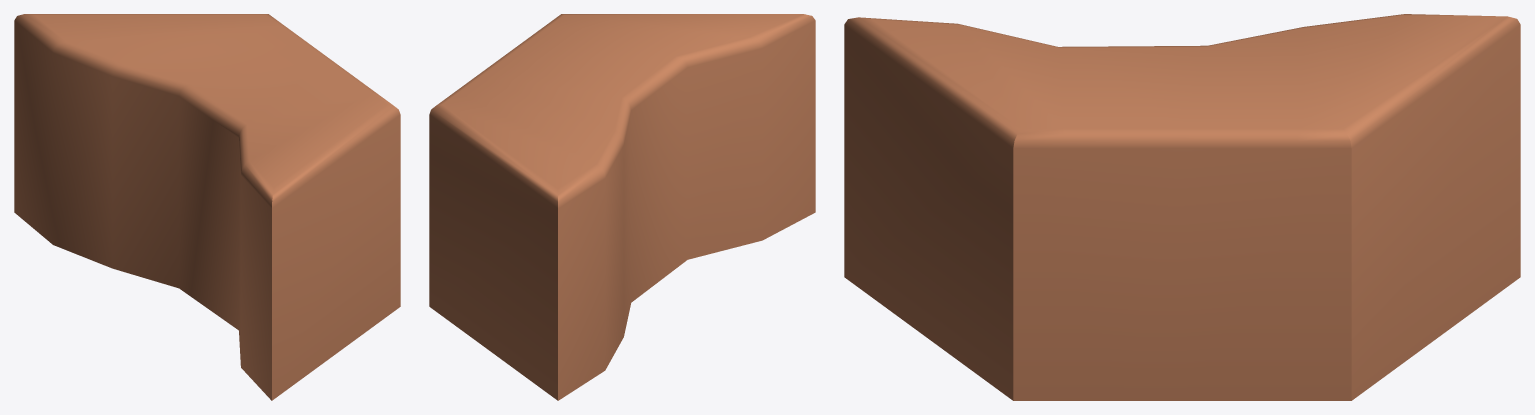
The model's file is kaykit-hex-rock-waterc-empty.glb.
3 renders of one model, left to right at view 1: azimuth 30°, elevation 25°; view 2: azimuth 150°, elevation 25°; view 3: azimuth 270°, elevation 25°, orthographic. The views are drawn at different scales.
Visible parts, largest first — view 1: hex_rock_waterC_empty; view 2: hex_rock_waterC_empty; view 3: hex_rock_waterC_empty.
Boxes of the visible parts, x1=… form: hex_rock_waterC_empty: x1=14, y1=14, x2=400, y2=400; hex_rock_waterC_empty: x1=429, y1=14, x2=815, y2=400; hex_rock_waterC_empty: x1=844, y1=14, x2=1520, y2=400.
Size of the model in its own units: 1.02 by 1 by 2.31.
